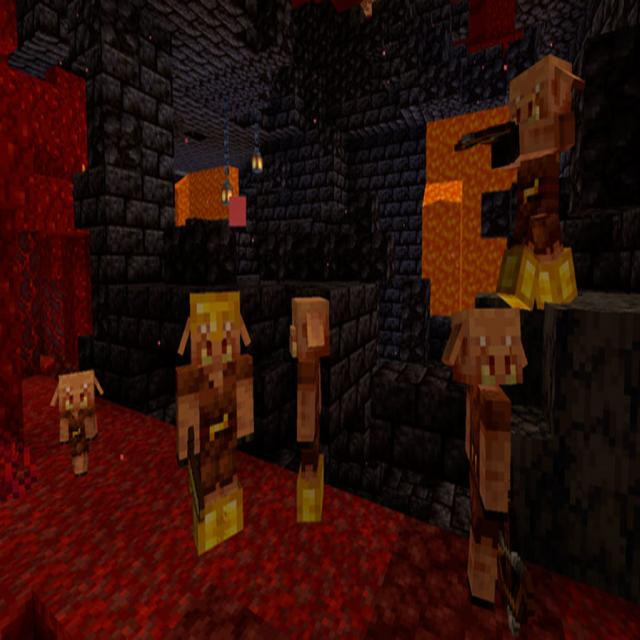Piglin: (453, 47, 586, 311), (441, 299, 539, 634), (173, 284, 256, 562), (287, 288, 333, 529), (49, 363, 104, 480)
